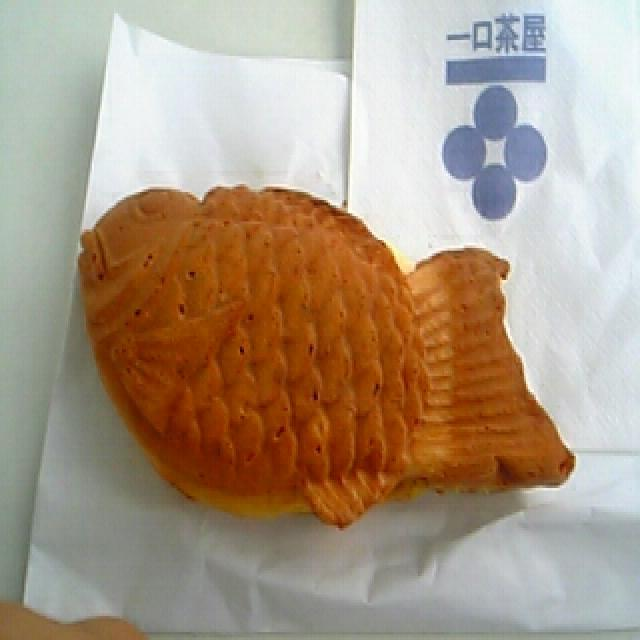熟制海鲜: (60, 171, 576, 528)
